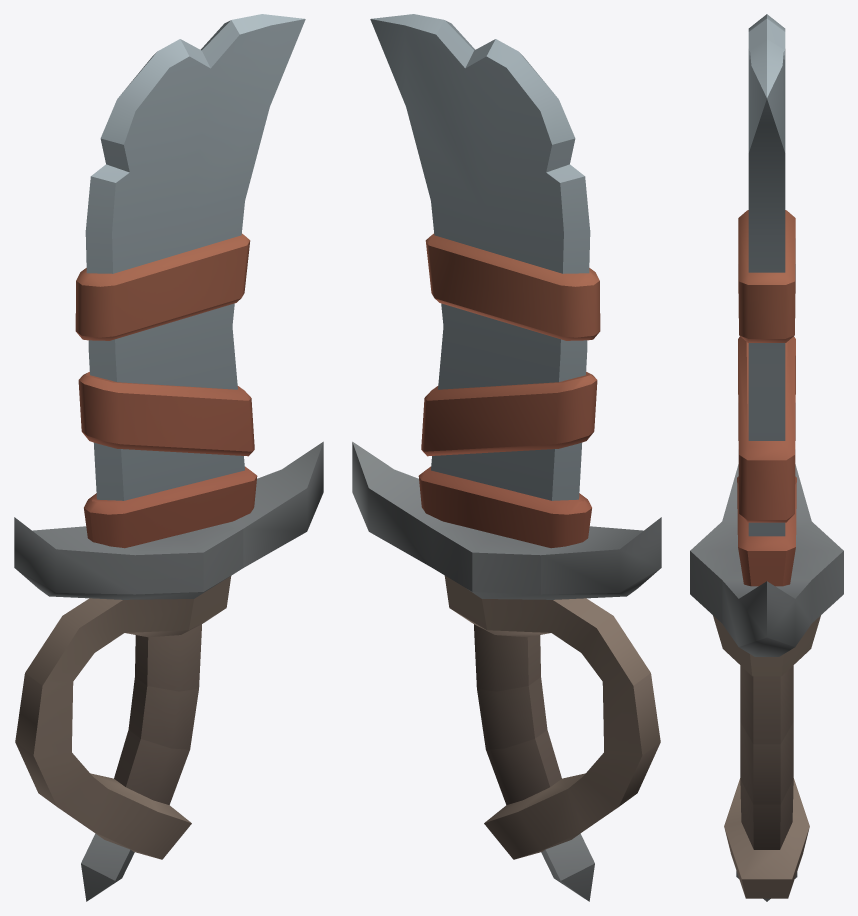
Rendered from w_k_blade.glb.
3 renders of one model, left to right at view 1: azimuth 30°, elevation 25°; view 2: azimuth 150°, elevation 25°; view 3: azimuth 270°, elevation 25°, orthographic. The views are drawn at different scales.
Parts seen in each view (by area): view 1: Skeleton_Blade; view 2: Skeleton_Blade; view 3: Skeleton_Blade.
Boxes of the visible parts, left/top/right/bottom form: Skeleton_Blade: left=14, top=14, right=323, bottom=901; Skeleton_Blade: left=352, top=14, right=661, bottom=901; Skeleton_Blade: left=690, top=14, right=843, bottom=901.
Size of the model in its own units: 0.5727 by 1.5 by 0.2222.
1 material, 1 textured.
